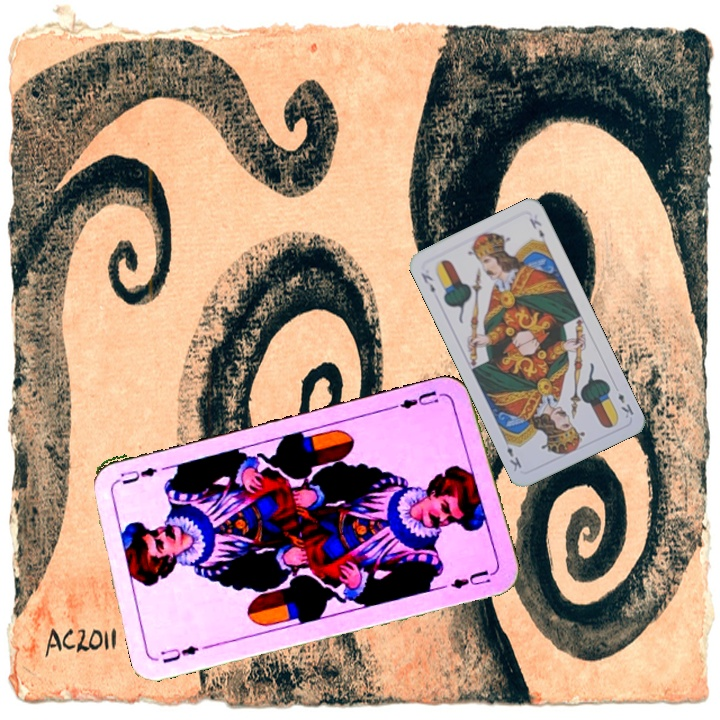EK: (614, 389, 636, 421), (417, 269, 438, 295)
EU: (392, 386, 452, 412), (156, 641, 201, 666)
